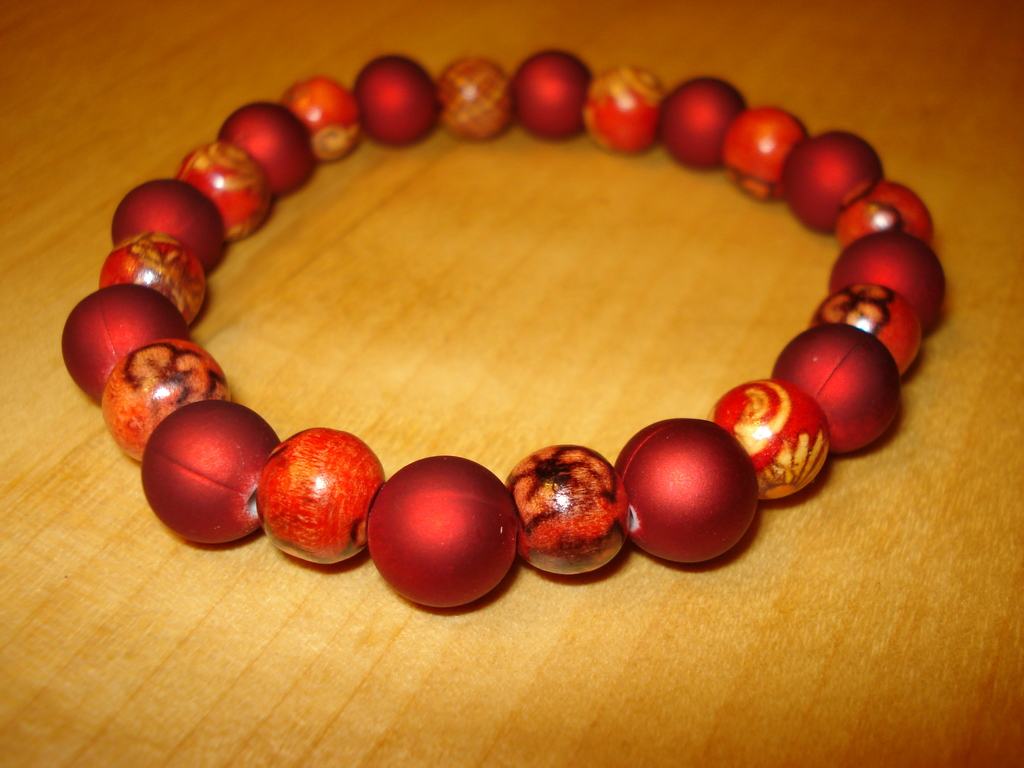Apple: (136, 398, 275, 543)
